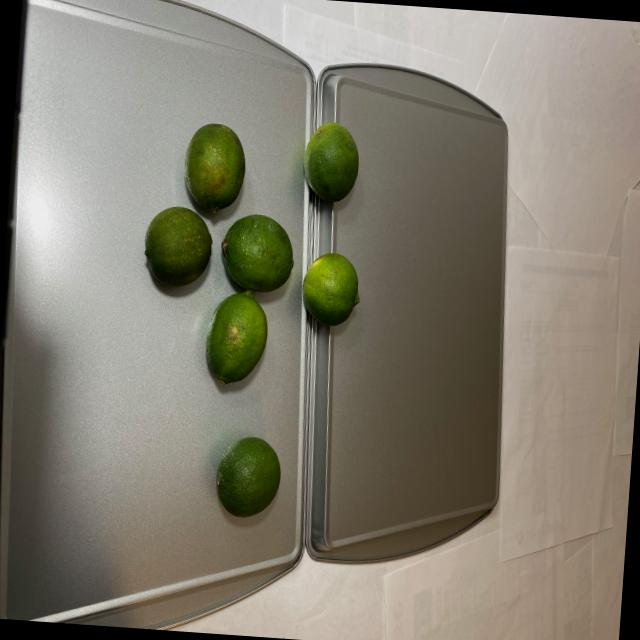lemon: (120, 106, 370, 524)
